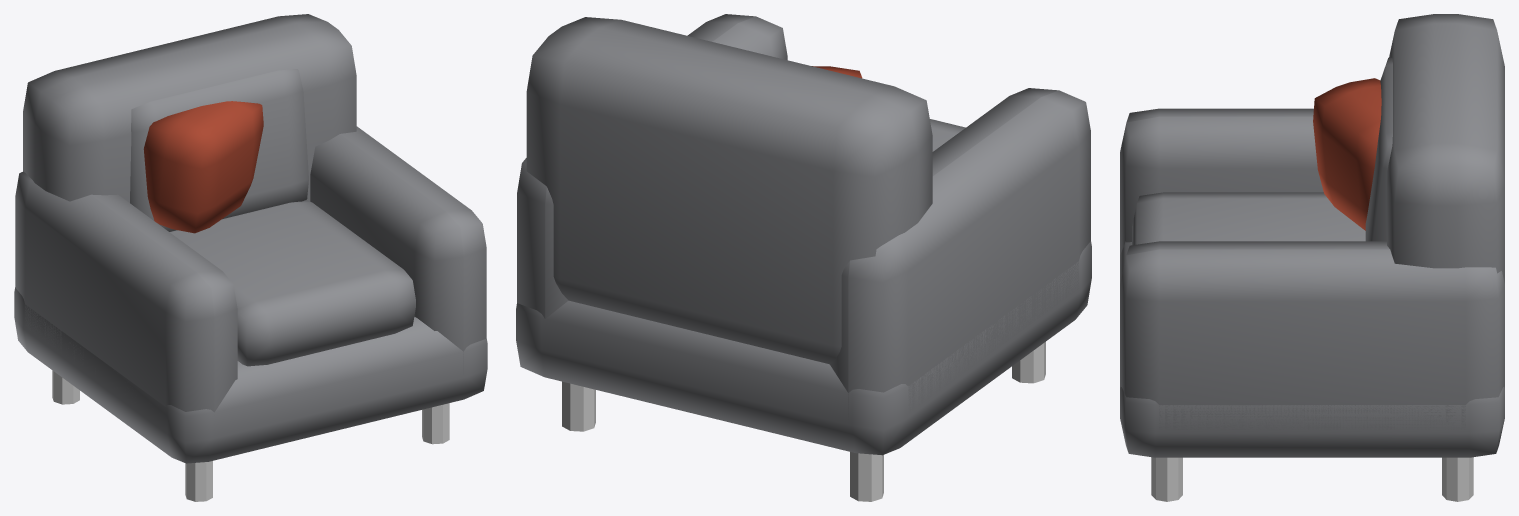
Rendered from armchair-grey.glb.
3 views of the same model, side by side, from view 1: azimuth 30°, elevation 25°; view 2: azimuth 150°, elevation 25°; view 3: azimuth 270°, elevation 25° (orthographic). The views are drawn at different scales.
Parts seen in each view (by area): view 1: armchair-grey; view 2: armchair-grey; view 3: armchair-grey.
Boxes of the visible parts, box(x1,y1,x2,y2) form: armchair-grey: box(14, 14, 487, 501); armchair-grey: box(516, 14, 1091, 501); armchair-grey: box(1120, 14, 1504, 501).
Bounding box in the file's own units: 1.15 × 1.13 × 1.13.
